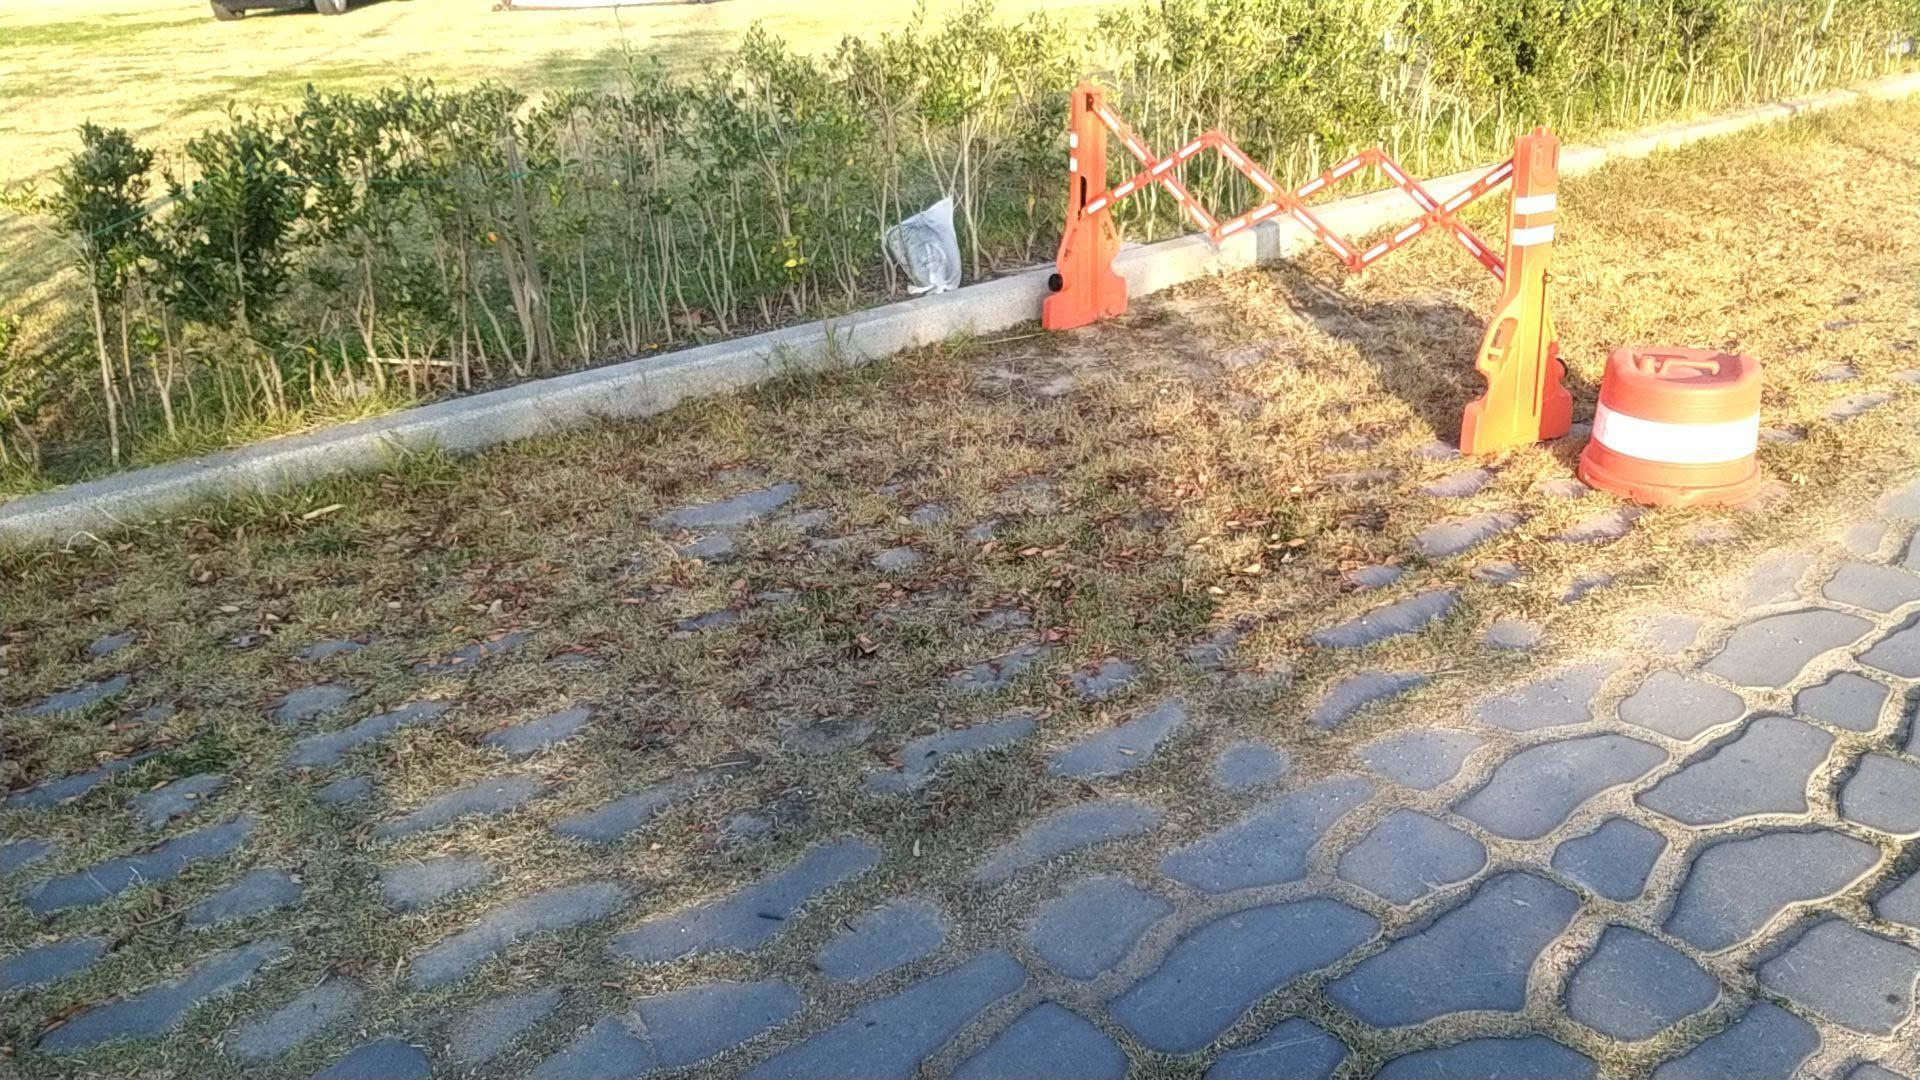white_bag: (867, 186, 974, 307)
